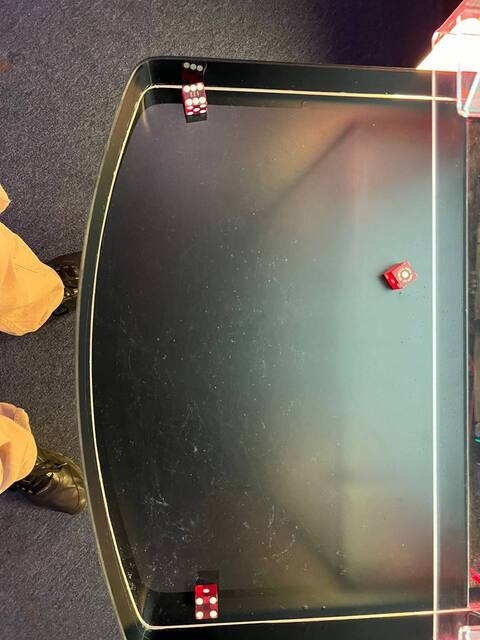four: (191, 593, 222, 624)
one: (390, 259, 418, 288)
six: (178, 78, 209, 109)
